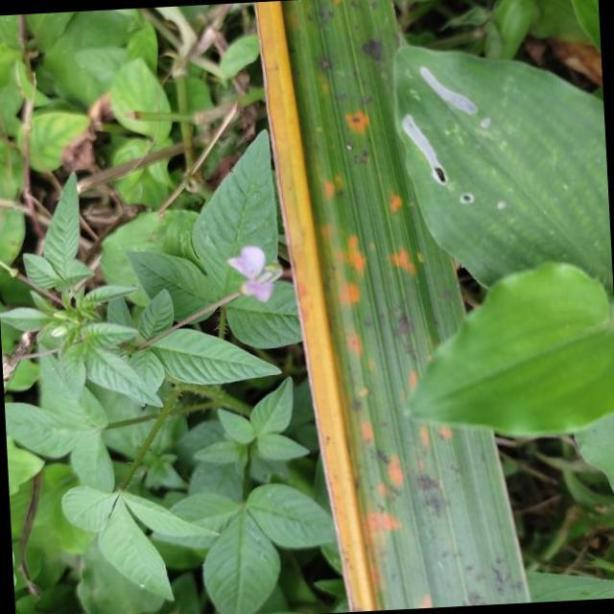Megnesium: (254, 0, 529, 614)
